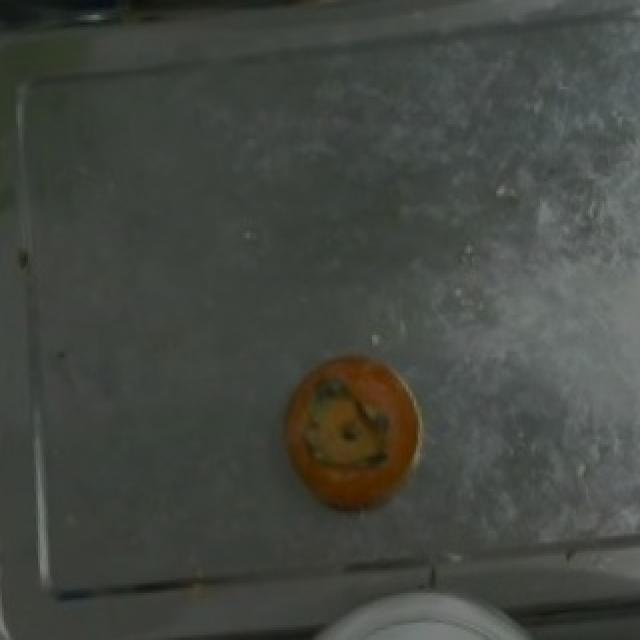Fruit: (272, 338, 442, 524)
